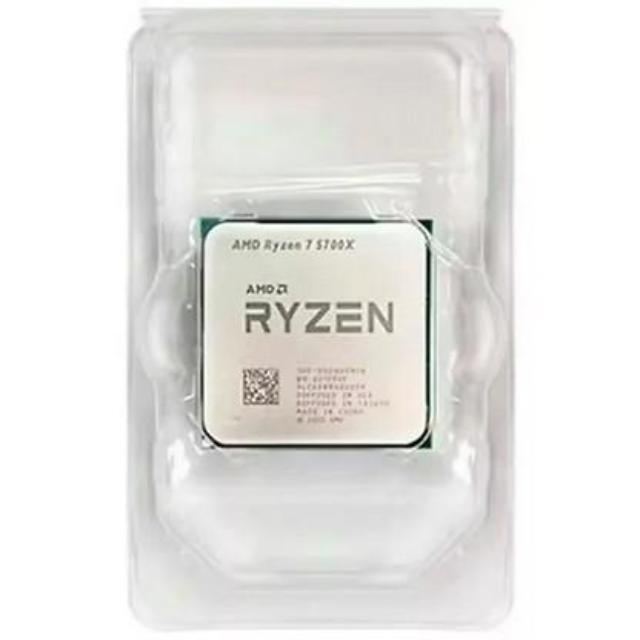CPU: (198, 218, 434, 450)
